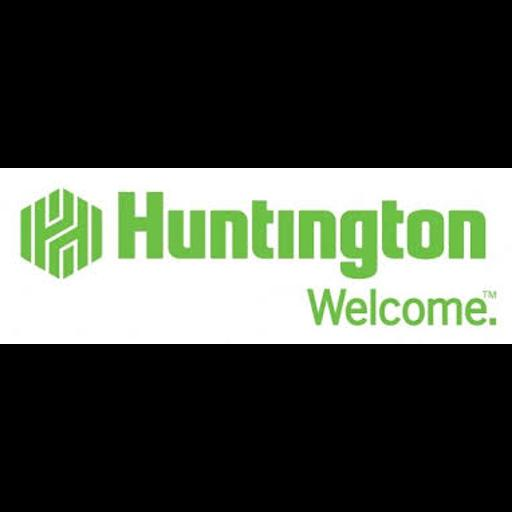Huntington Bank: (0, 168, 512, 344)
